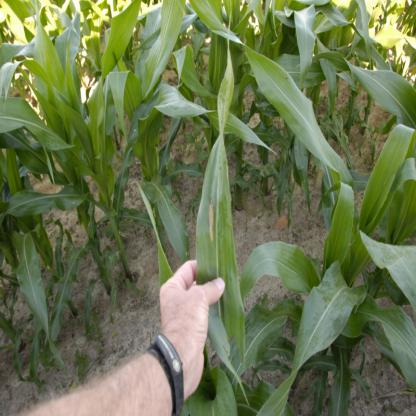corn leaf blight: (197, 34, 239, 283)
